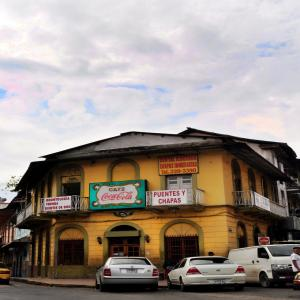Vehicle-registration-plate: (214, 280, 228, 285), (127, 270, 139, 274)
